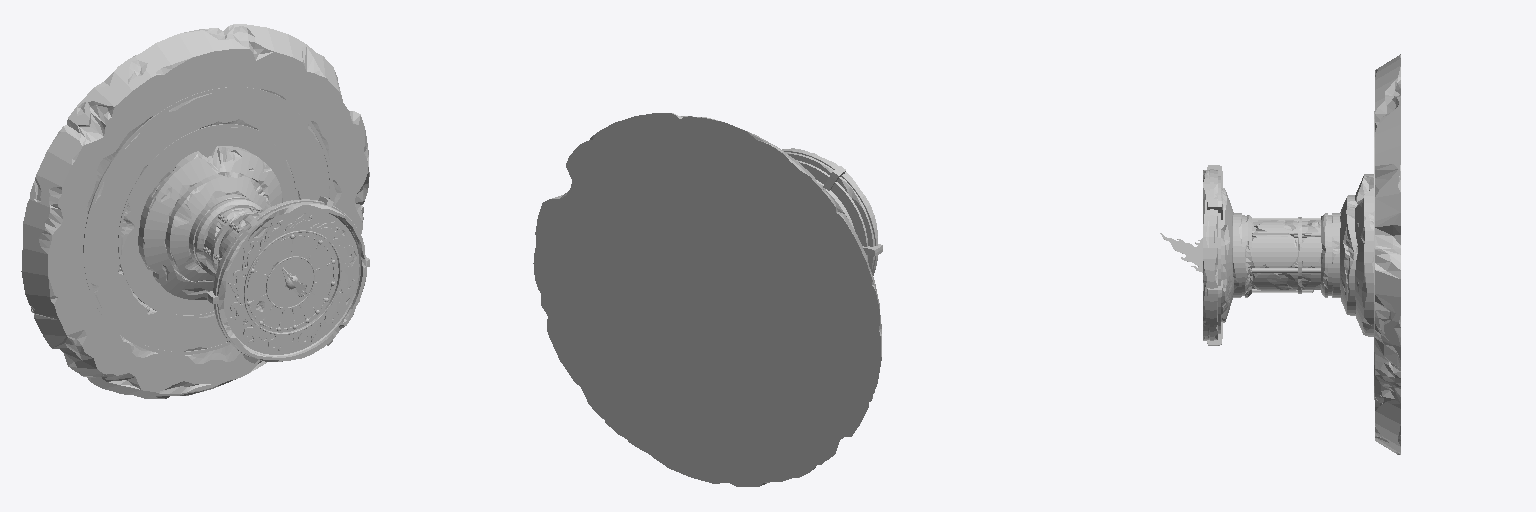
The model's file is sundial_pedestal.obj.
The picture shows the model from 3 angles: view 1: azimuth 30°, elevation 25°; view 2: azimuth 150°, elevation 25°; view 3: azimuth 270°, elevation 25°; orthographic projection.
Visible parts, largest first — view 1: SundialUVd:polySurface1, SundialUVd:polySurface1 (2), SundialUVd:polySurface1 (1); view 2: SundialUVd:polySurface1, SundialUVd:polySurface1 (2); view 3: SundialUVd:polySurface1, SundialUVd:polySurface1 (1), SundialUVd:polySurface1 (2).
Boxes of the visible parts, <box> form: SundialUVd:polySurface1: <box>21,24,369,398</box>; SundialUVd:polySurface1 (2): <box>83,87,369,363</box>; SundialUVd:polySurface1 (1): <box>138,146,282,299</box>; SundialUVd:polySurface1: <box>533,113,881,486</box>; SundialUVd:polySurface1 (2): <box>782,149,882,274</box>; SundialUVd:polySurface1: <box>1203,54,1400,454</box>; SundialUVd:polySurface1 (1): <box>1233,174,1373,336</box>; SundialUVd:polySurface1 (2): <box>1160,111,1374,399</box>.
Size of the model in its own units: 66.14 by 66.14 by 39.77.